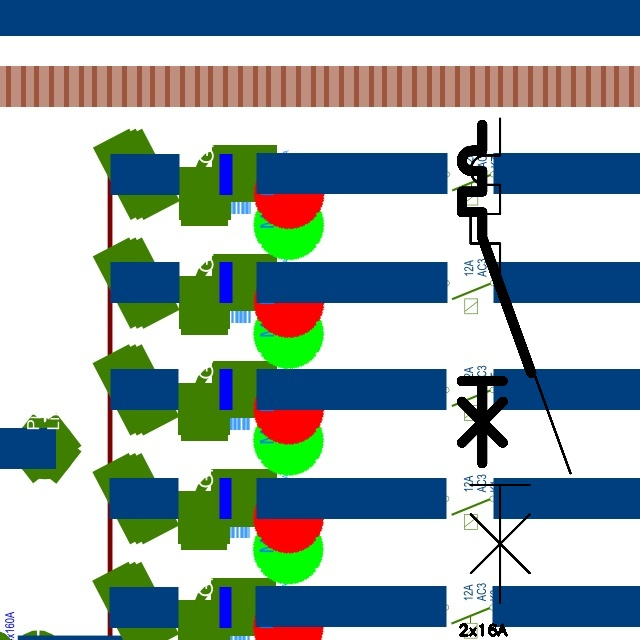interruptor_termomagnetico: (458, 106, 582, 615), (453, 116, 540, 472)
